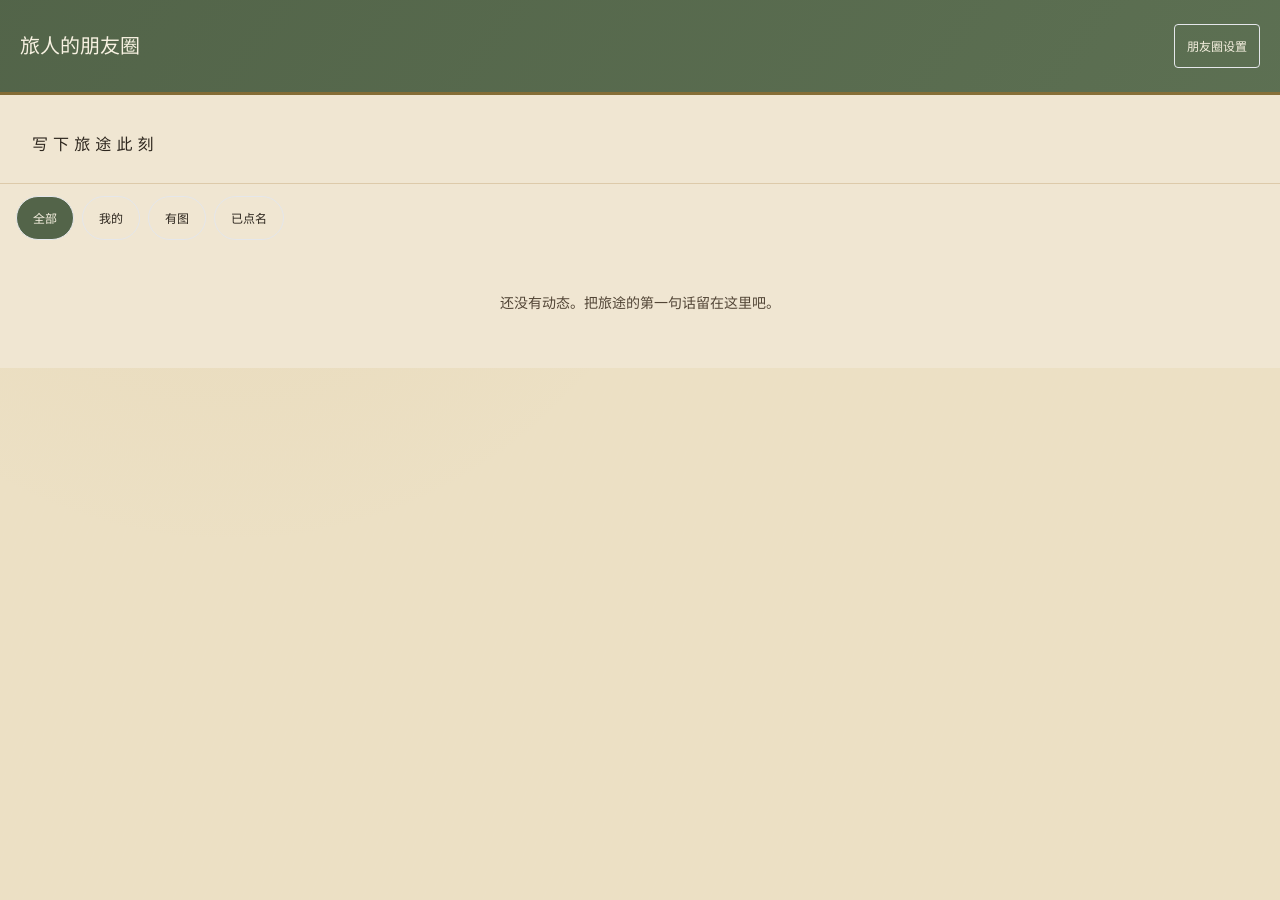
Scenario: a_failed_save_keeps_the_settings_dialog_and_its_draft
Click the button "朋友圈设置" at coordinates (1217, 46), box [1174,24,1260,68]
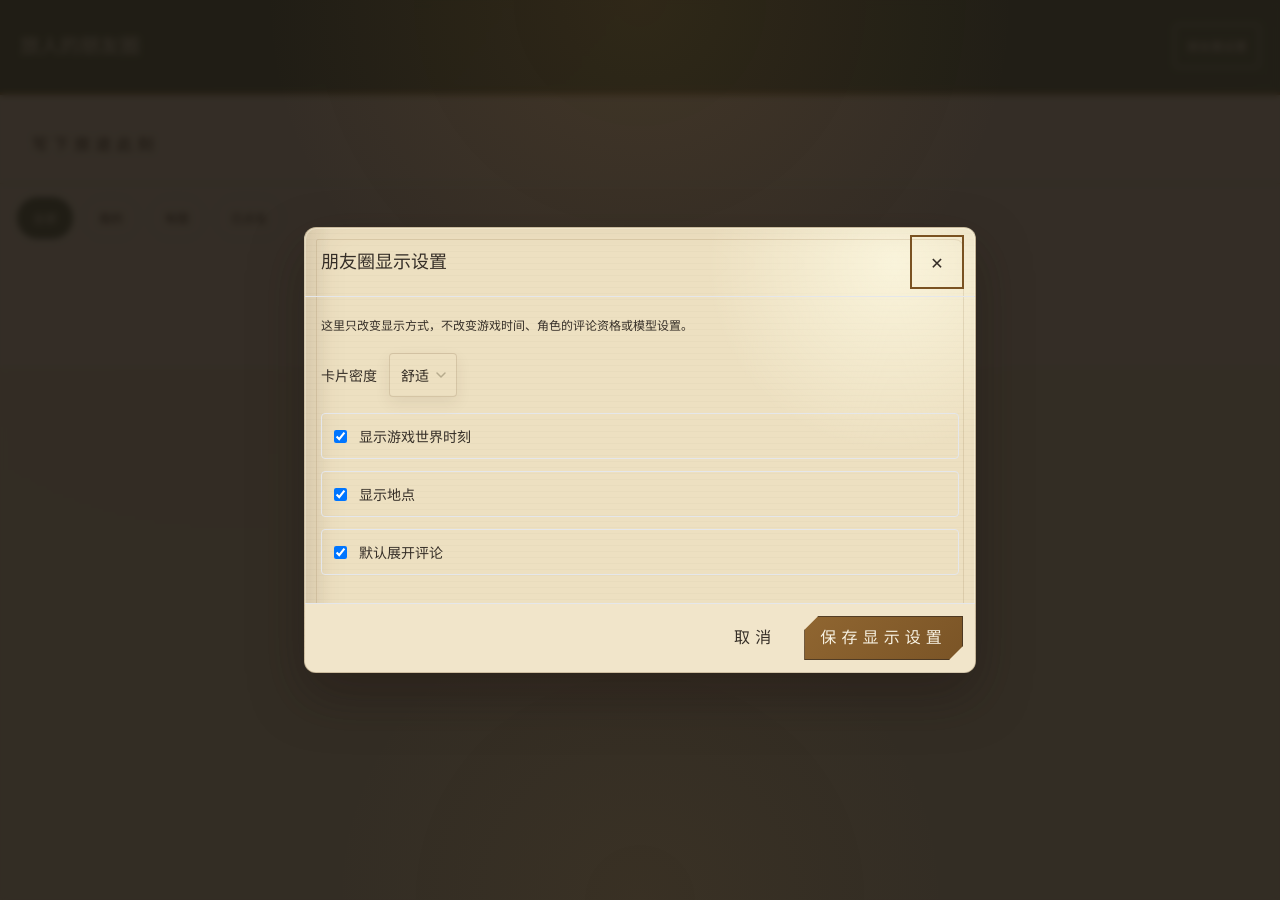
Select "紧凑" in the dropdown named "卡片密度" at coordinates (423, 375), box [389,353,457,397]
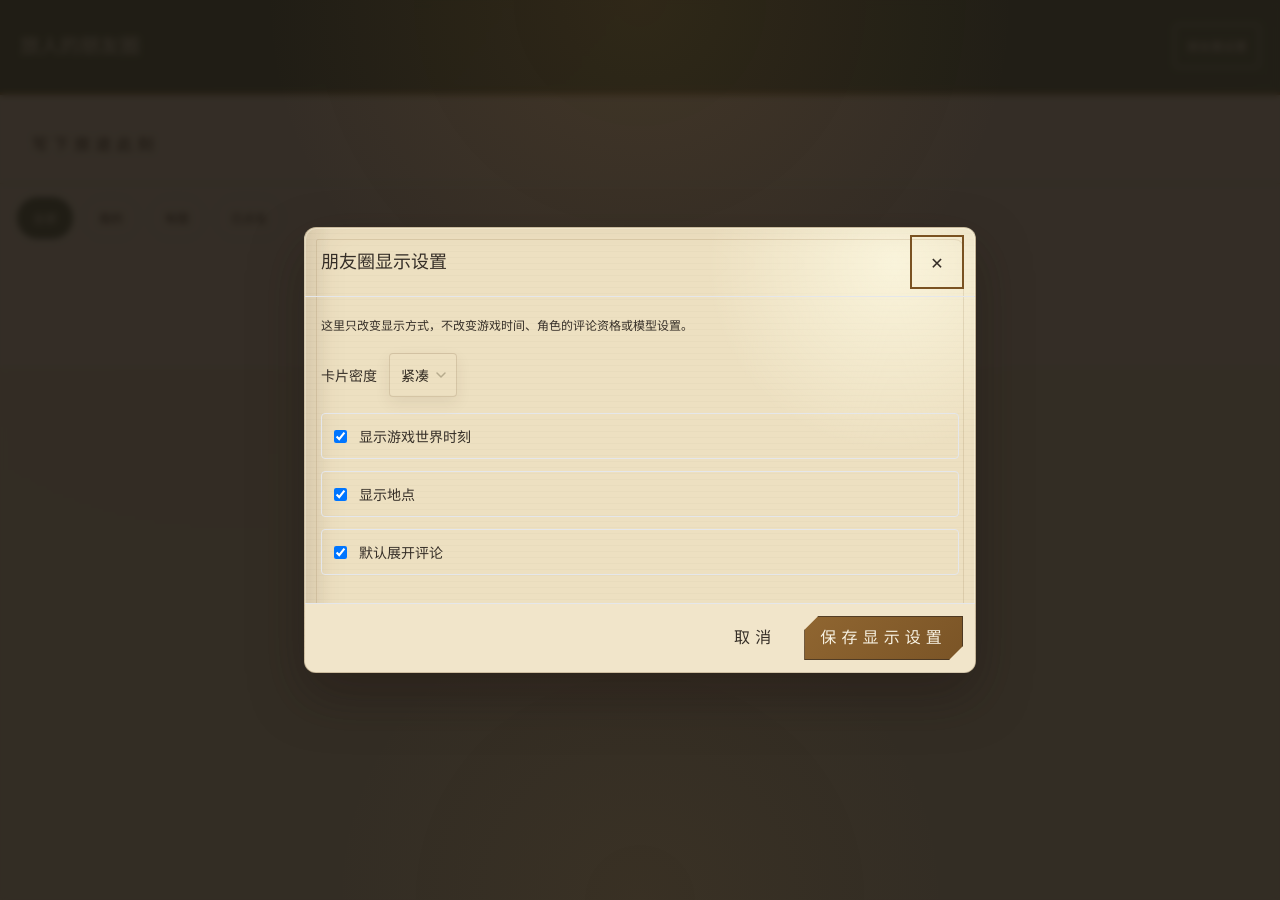
Now the button "保存显示设置" is shown
Click the button "保存显示设置" at coordinates (884, 638), box [804,616,963,660]
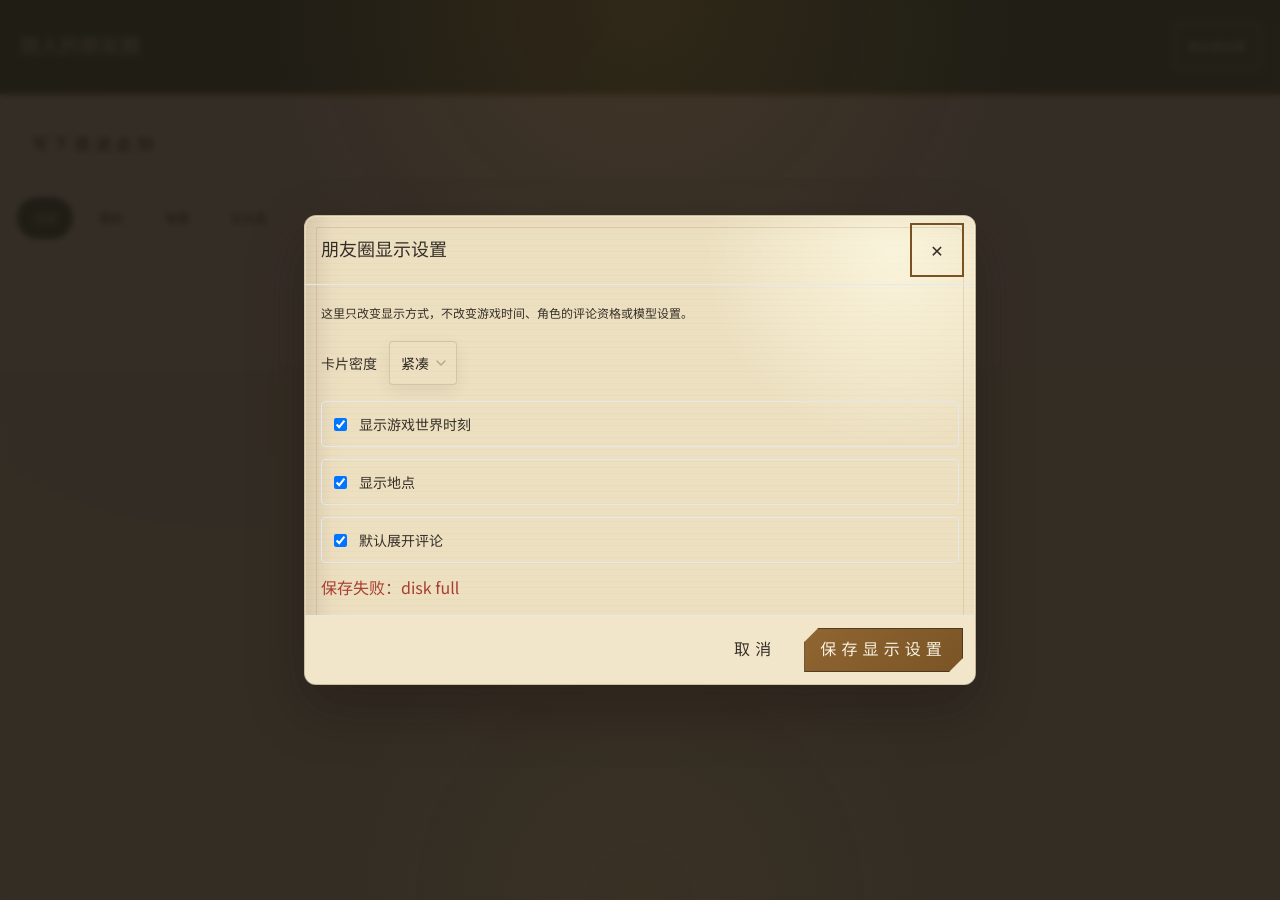
Now the message "保存失败：disk full" is shown, box [321,575,459,599]
